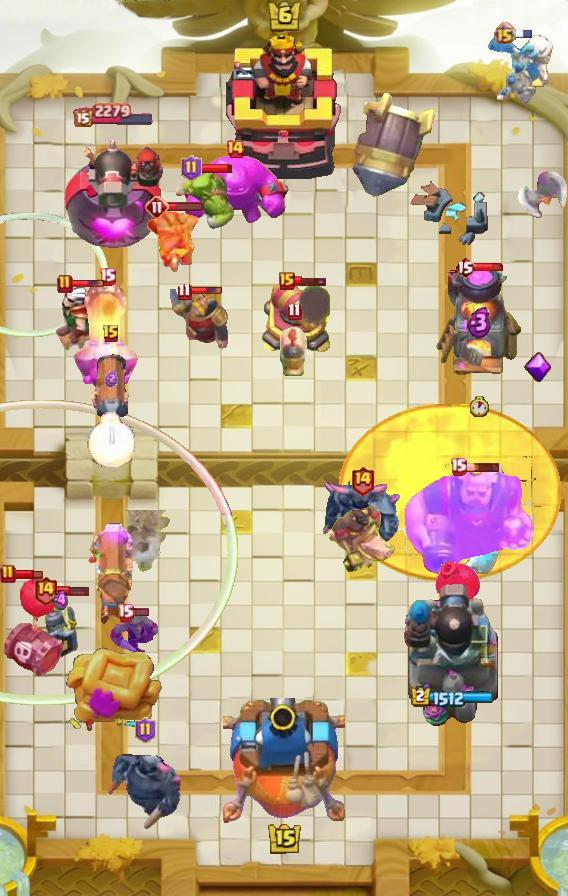baby-dragon: (435, 560, 481, 605)
bat: (461, 540, 499, 574)
battle-healer: (88, 523, 134, 627), (89, 343, 133, 427)
clone: (180, 153, 290, 227)
electro-spirit: (467, 306, 492, 338), (53, 588, 67, 612), (104, 370, 118, 386)
elixir: (87, 412, 135, 467), (470, 395, 489, 417)
emote: (464, 461, 501, 473), (292, 275, 328, 287), (9, 568, 44, 580), (199, 162, 233, 174), (168, 201, 205, 212), (56, 585, 89, 597), (71, 279, 105, 289), (189, 286, 223, 296), (474, 262, 506, 272), (514, 27, 533, 39), (130, 607, 150, 617)
executioner: (278, 326, 310, 378)
firecracker: (171, 290, 230, 350)
fisherman: (120, 510, 174, 575)
flying-machine: (176, 172, 234, 230)
freeze: (327, 500, 397, 574)
furnace: (73, 275, 141, 395)
goblin-barrel: (145, 211, 203, 273)
golemite: (107, 735, 183, 831), (320, 478, 404, 550)
hunter: (435, 268, 523, 378)
king-tower: (226, 33, 342, 181), (223, 698, 345, 826)
lightning: (398, 465, 542, 579)
mini-pekka: (484, 32, 556, 108)
phoenix-egg: (339, 404, 563, 582)
princess: (38, 596, 82, 660)
royal-giant: (514, 171, 568, 231)
royal-recruit: (261, 283, 333, 357)
royal-recruit-evolution: (0, 576, 66, 680)
selected: (73, 101, 155, 126), (411, 686, 495, 708)
skeleton-king: (37, 283, 111, 351)
skeleton-king-skill: (524, 352, 552, 384)
text: (350, 464, 375, 495), (34, 574, 59, 605), (145, 195, 169, 219), (181, 155, 202, 181), (135, 717, 156, 743), (493, 22, 516, 45), (454, 255, 476, 279), (225, 139, 245, 159), (102, 324, 120, 344), (99, 267, 117, 286), (449, 456, 467, 475), (117, 603, 135, 622), (57, 274, 73, 294), (0, 564, 16, 584), (279, 272, 295, 290), (287, 302, 302, 321), (177, 283, 192, 301)
tower-bar: (402, 579, 504, 731), (60, 132, 167, 256)
x-bow: (352, 90, 436, 197)
zap: (110, 611, 160, 655)
